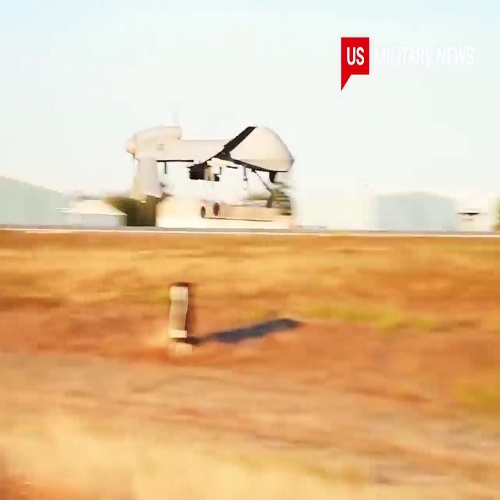uav723: (111, 116, 295, 198)
